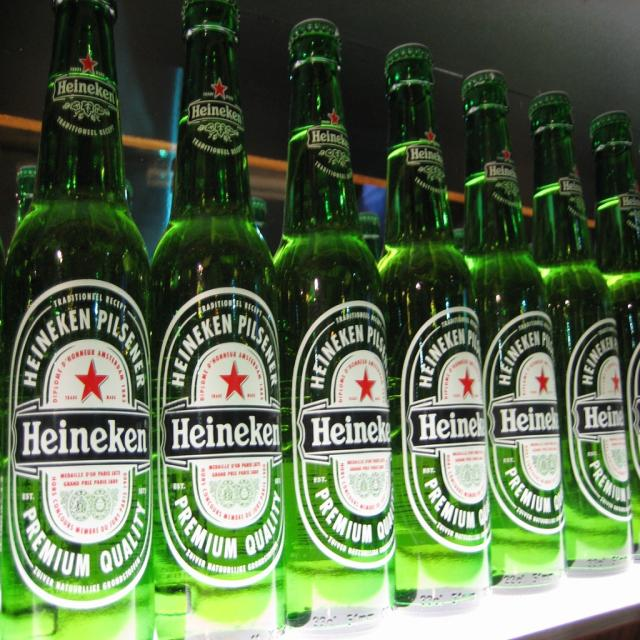heineken: (9, 281, 154, 611), (157, 289, 286, 590), (292, 301, 396, 570), (402, 307, 492, 553), (483, 312, 566, 538), (566, 318, 632, 526)
